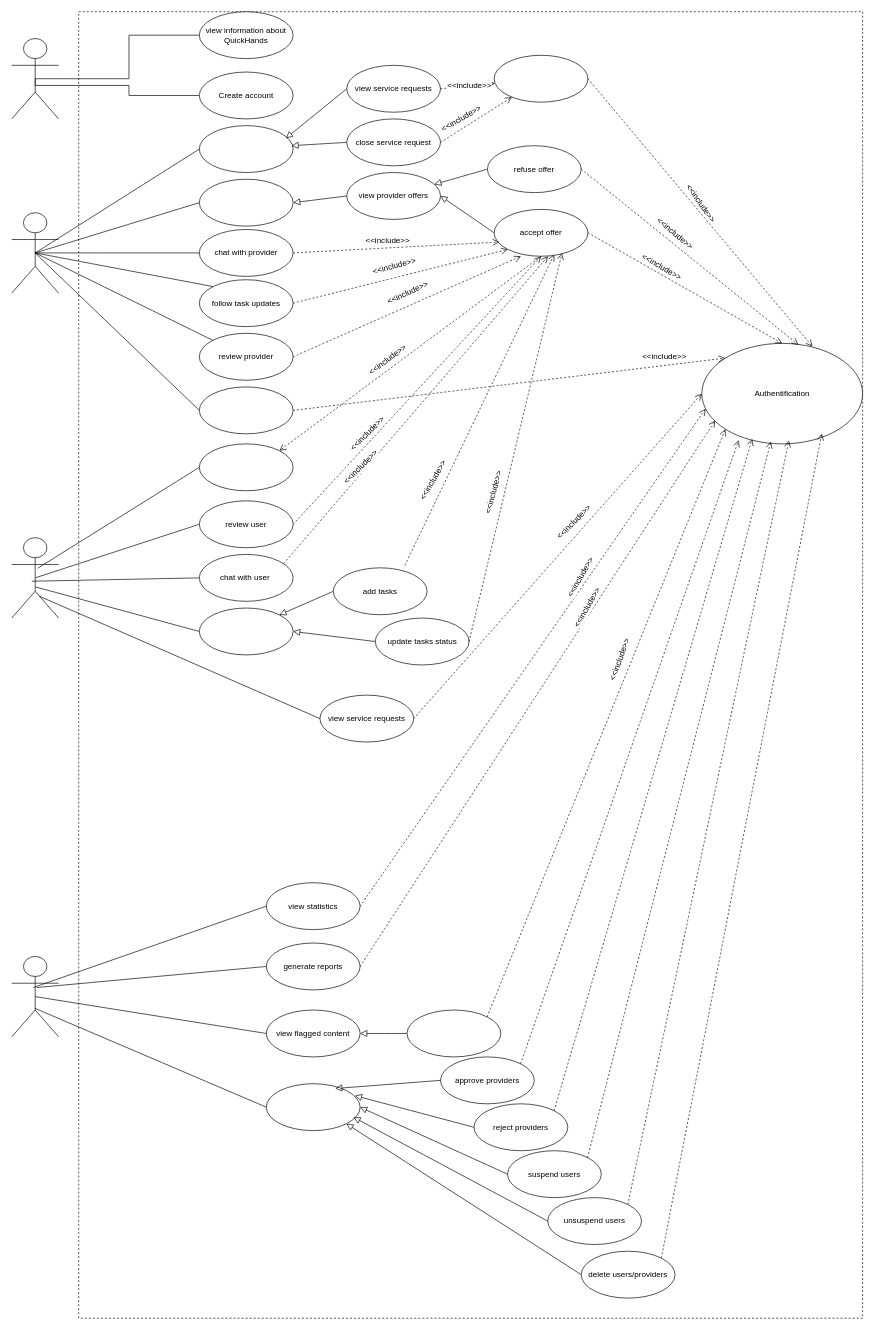
The diagram is 874 pixels wide and 1330 high, and some of its shapes have lost their labels. The shapes that lost their labels are listed below. From the top down, each one's centre as x and y in pixels, then its label:
point 35,78: Visiteur
point 540,78: post service request
point 246,149: Manage service request
point 246,202: manage provider offers
point 35,252: User
point 246,410: Receive notification
point 246,467: submit offer
point 35,577: Provider
point 246,631: manage tasks
point 35,996: Admin
point 453,1033: delete inappropriate content
point 313,1107: manage users
